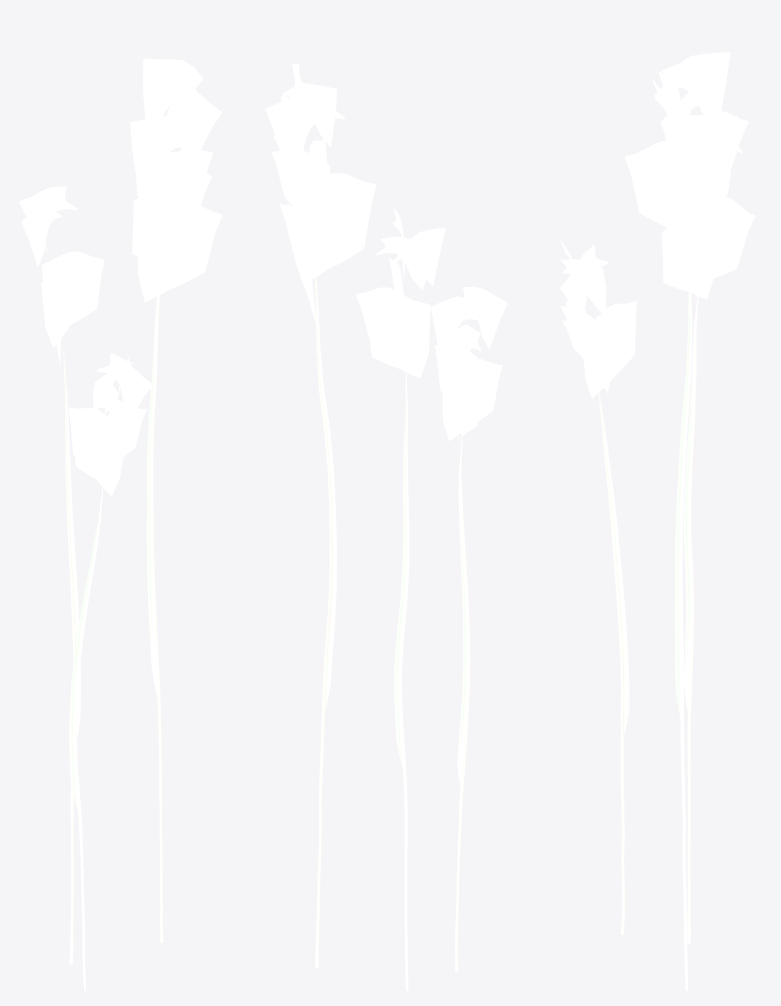
3 views of the same model, side by side, from view 1: azimuth 30°, elevation 25°; view 2: azimuth 150°, elevation 25°; view 3: azimuth 270°, elevation 25° (orthographic). The views are drawn at different scales.
Parts seen in each view (by area): view 1: SM_BM_Sm_Plant_02_LOD0; view 2: SM_BM_Sm_Plant_02_LOD0; view 3: SM_BM_Sm_Plant_02_LOD0.
Part boxes in pixels (x1=…): SM_BM_Sm_Plant_02_LOD0: x1=19, y1=58, x2=222, y2=991; SM_BM_Sm_Plant_02_LOD0: x1=265, y1=63, x2=507, y2=991; SM_BM_Sm_Plant_02_LOD0: x1=559, y1=52, x2=755, y2=991.
Bounding box in the file's own units: 0.348 × 1.61 × 0.3304.
